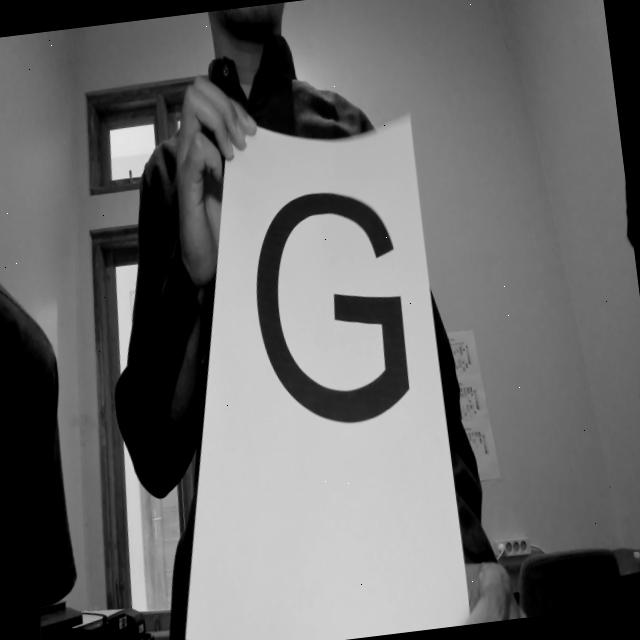g: (237, 167, 428, 480)
